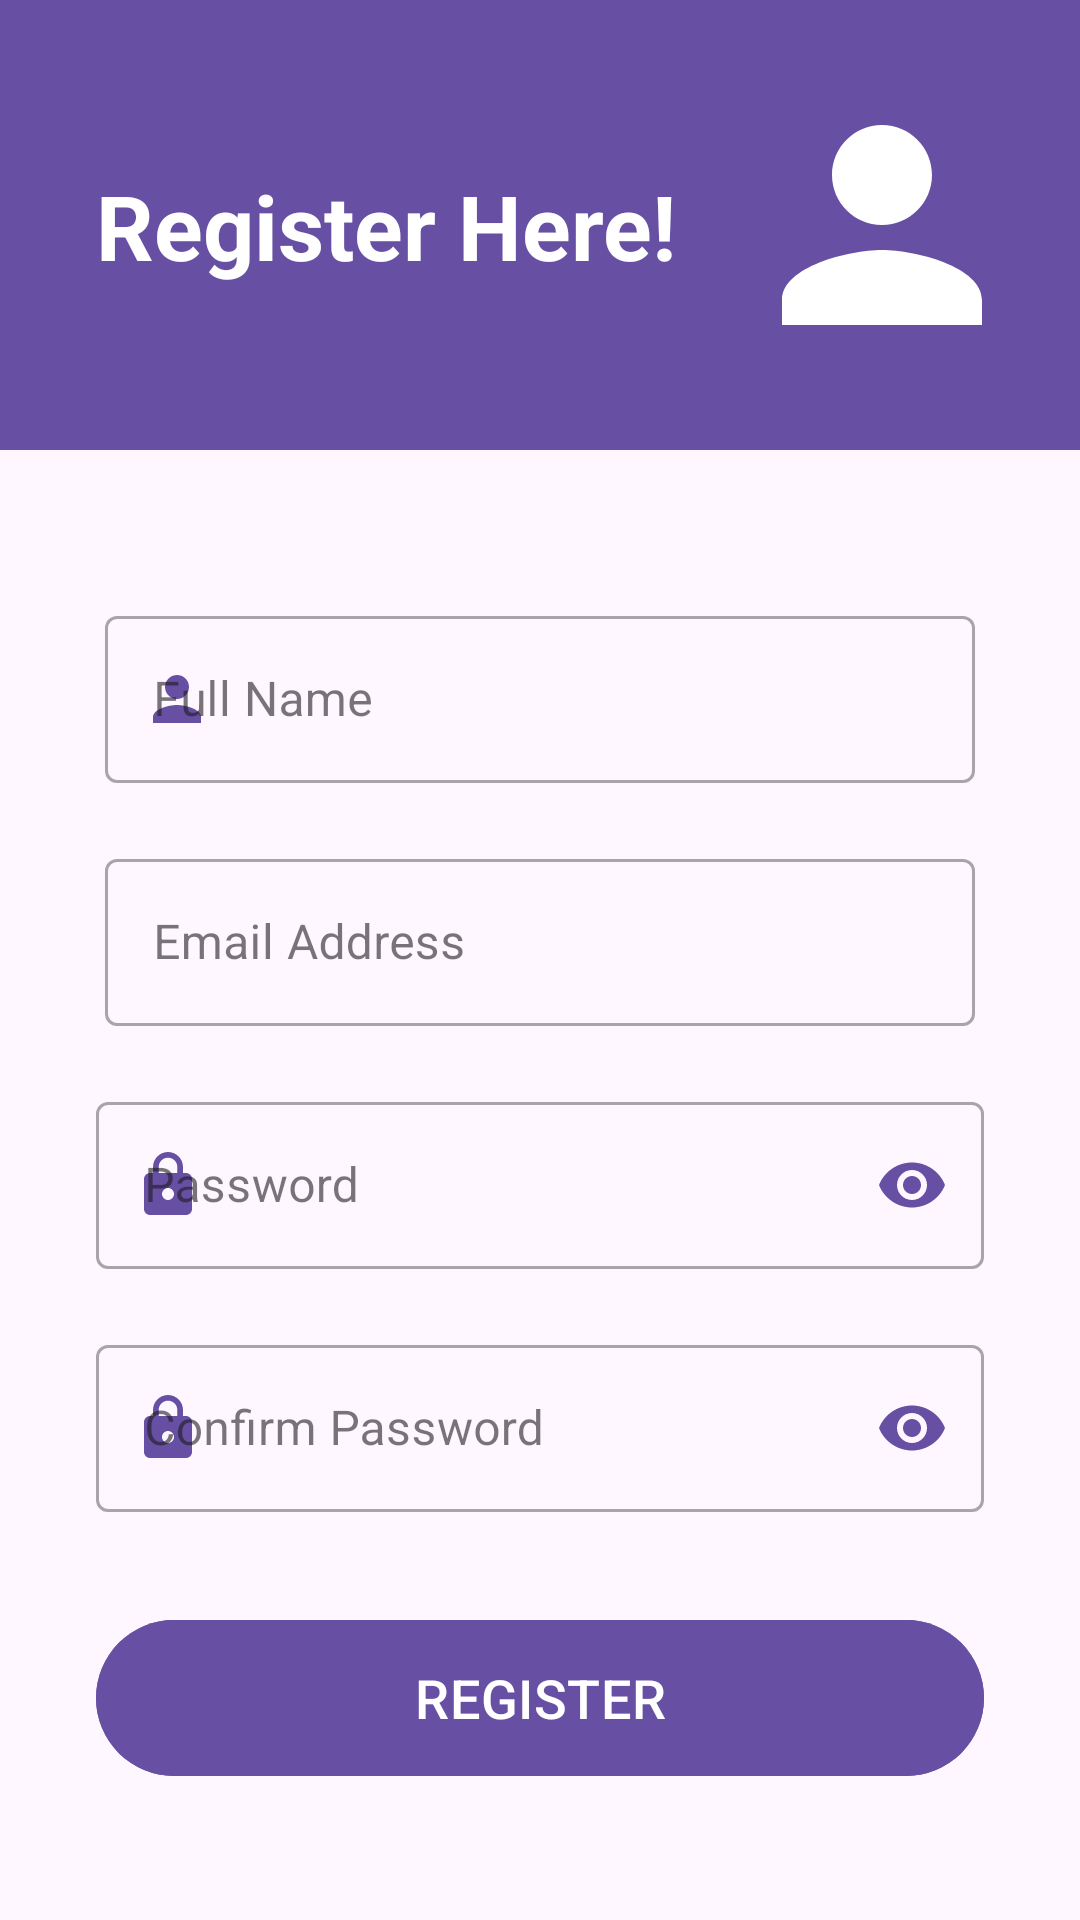

Locate icon controls on the screen. Image size 1080px×1920px, boxes as (x1, y1, x2, y2).
person: (782, 125, 982, 325)
